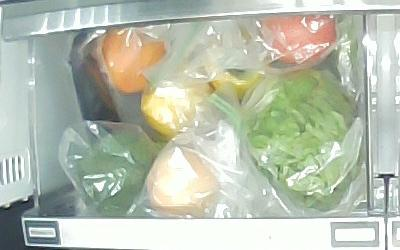apple_vinyl: (261, 14, 336, 64)
broccoli_vinyl: (77, 133, 168, 216)
eggplant_vinyl: (68, 29, 121, 142)
grapefruit_vinyl: (102, 30, 166, 93)
lettuce_vinyl: (244, 70, 360, 206)
paprika_vinyl: (140, 74, 213, 140)
peach_vinyl: (147, 148, 218, 215)
persimmon_vinyl: (204, 58, 262, 98)
